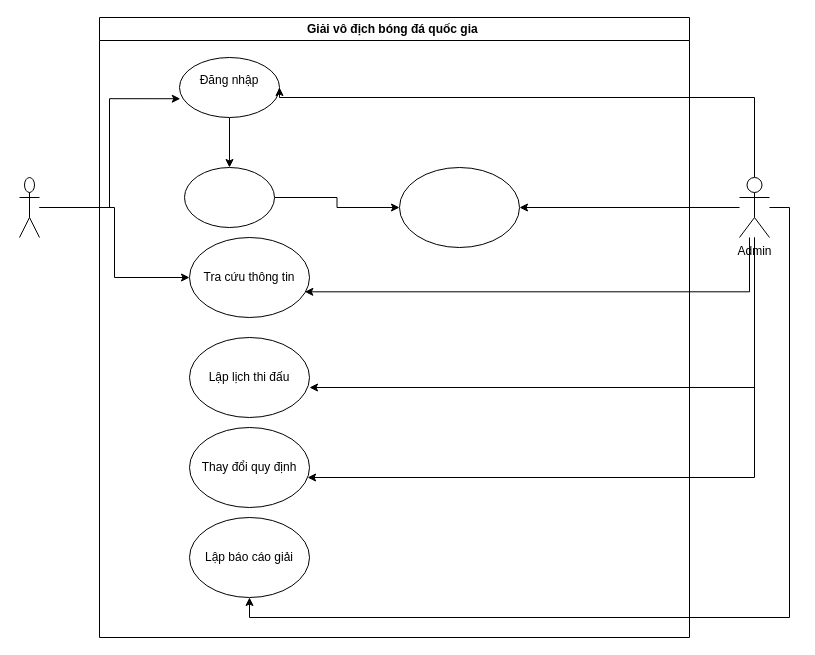
This 815x655 diagram has some shape labels left out. Here are the shapes that lost their labels. From the top down, the box of each, then its label:
(18, 176, 40, 238): User
(184, 166, 274, 228): Nộp hồ sơ
(398, 166, 520, 248): Phê duyệt hồ sơ
